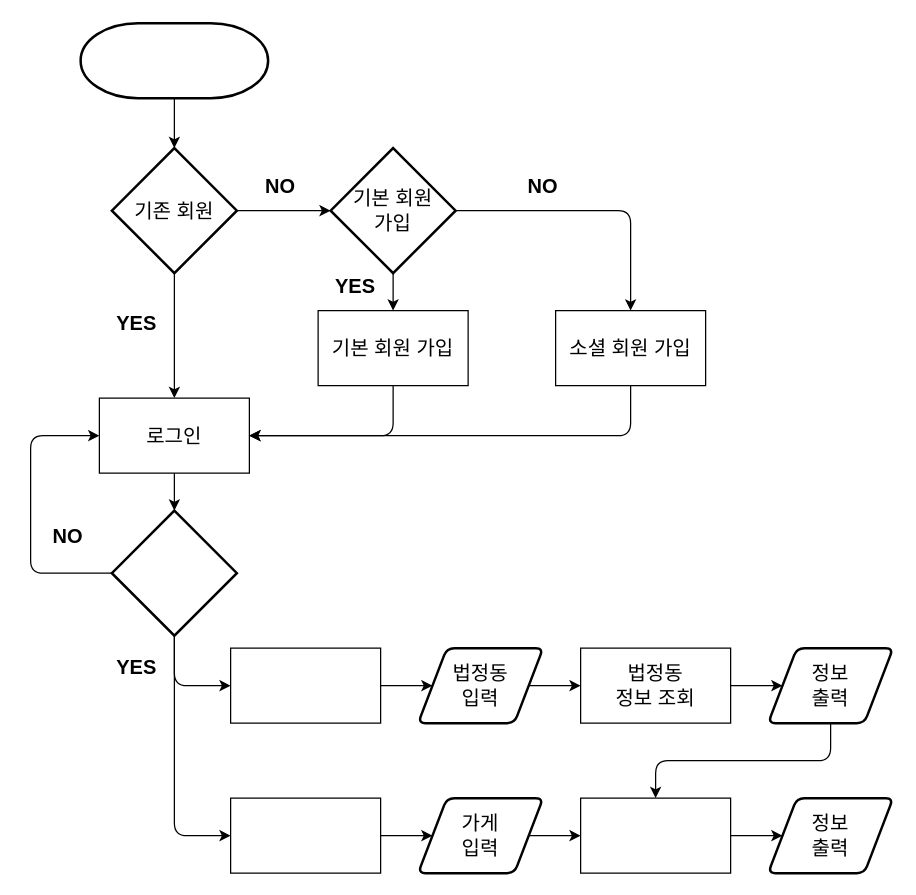
Image size: 916x895. Some labels were removed from this diagram. The centre of each missing label's shape, as x and y in pixels:
가게 리뷰 조회: [655,835]
로그인 성공: [174,572]
리뷰 게시판: [305,835]
사이트 접속: [174,60]
아파트 상권 정보 조회: [305,685]
